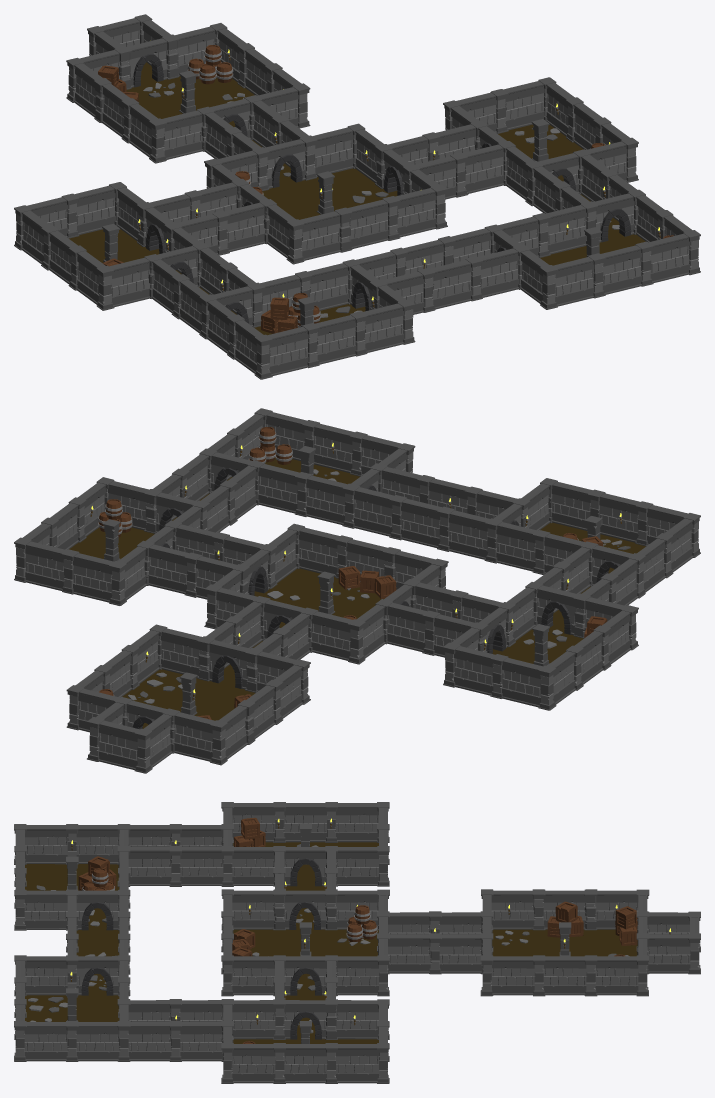
File: Modular Dungeon.fbx
3 renders of one model, top to bottom at view 1: azimuth 30°, elevation 25°; view 2: azimuth 150°, elevation 25°; view 3: azimuth 270°, elevation 25°, orthographic. The views are drawn at different scales.
Visible parts, largest first — view 1: Wall.050, Wall.065, Wall.024, Wall.022, Wall.049, Wall.073, Wall.074, Wall.048, Wall.072, Wall.082, Wall.027, Wall.053 (+90 smaller); view 2: Wall.060, Wall.026, Wall.014, Wall.076, Wall.078, Wall.059, Wall.035, Wall.079, Wall.036, Wall.053, Wall.052, Wall.029 (+90 smaller); view 3: Wall.007, Wall.006, Wall.045, Wall.047, Wall.042, Wall.046, Wall.008, Wall.032, Wall.001, Wall.038, Wall.043, Wall.067 (+50 smaller).
Part boxes in pixels (<box>): Wall.050: <box>540,257,594,309</box>; Wall.065: <box>96,257,150,310</box>; Wall.024: <box>300,207,352,260</box>; Wall.022: <box>395,184,447,237</box>; Wall.049: <box>587,245,642,298</box>; Wall.073: <box>315,311,367,364</box>; Wall.074: <box>363,299,415,352</box>; Wall.048: <box>635,233,689,286</box>; Wall.072: <box>267,323,319,375</box>; Wall.082: <box>430,256,483,309</box>; Wall.027: <box>347,196,400,248</box>; Wall.053: <box>532,205,586,257</box>; Wall.060: <box>502,657,556,710</box>; Wall.026: <box>311,611,365,664</box>; Wall.014: <box>173,712,227,765</box>; Wall.076: <box>484,518,537,571</box>; Wall.078: <box>437,506,489,559</box>; Wall.059: <box>454,646,508,698</box>; Wall.035: <box>61,549,113,602</box>; Wall.079: <box>389,495,441,547</box>; Wall.036: <box>14,537,66,590</box>; Wall.053: <box>258,464,312,516</box>; Wall.052: <box>305,475,360,528</box>; Wall.029: <box>147,544,202,597</box>; Wall.007: <box>543,955,597,996</box>; Wall.006: <box>595,955,648,996</box>; Wall.045: <box>117,1021,171,1061</box>; Wall.047: <box>14,1021,67,1061</box>; Wall.042: <box>232,1043,285,1083</box>; Wall.046: <box>66,1021,119,1061</box>; Wall.008: <box>492,955,545,996</box>; Wall.032: <box>647,933,700,974</box>; Wall.001: <box>429,933,482,974</box>; Wall.038: <box>169,1021,223,1061</box>; Wall.043: <box>284,1043,337,1083</box>; Wall.067: <box>169,846,223,886</box>.
Bounding box in the file's own units: 4495 × 316 × 5297.
